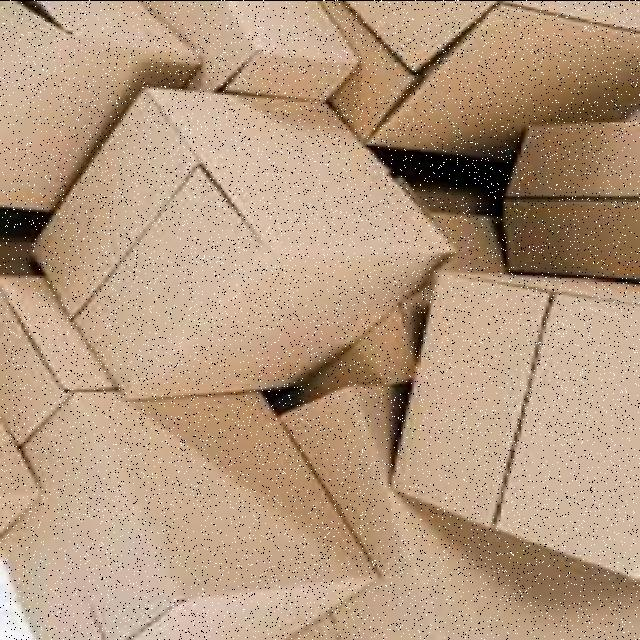normal: (31, 87, 454, 396)
